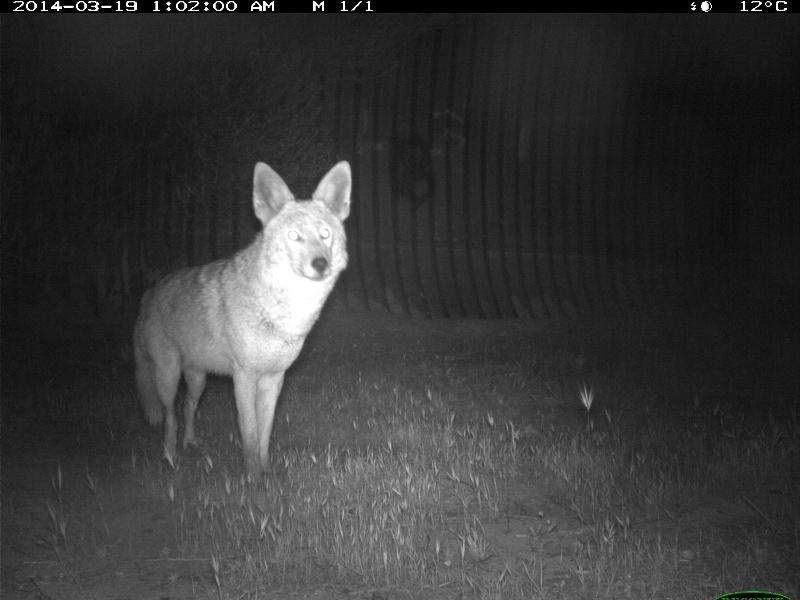coyote: (128, 151, 358, 492)
